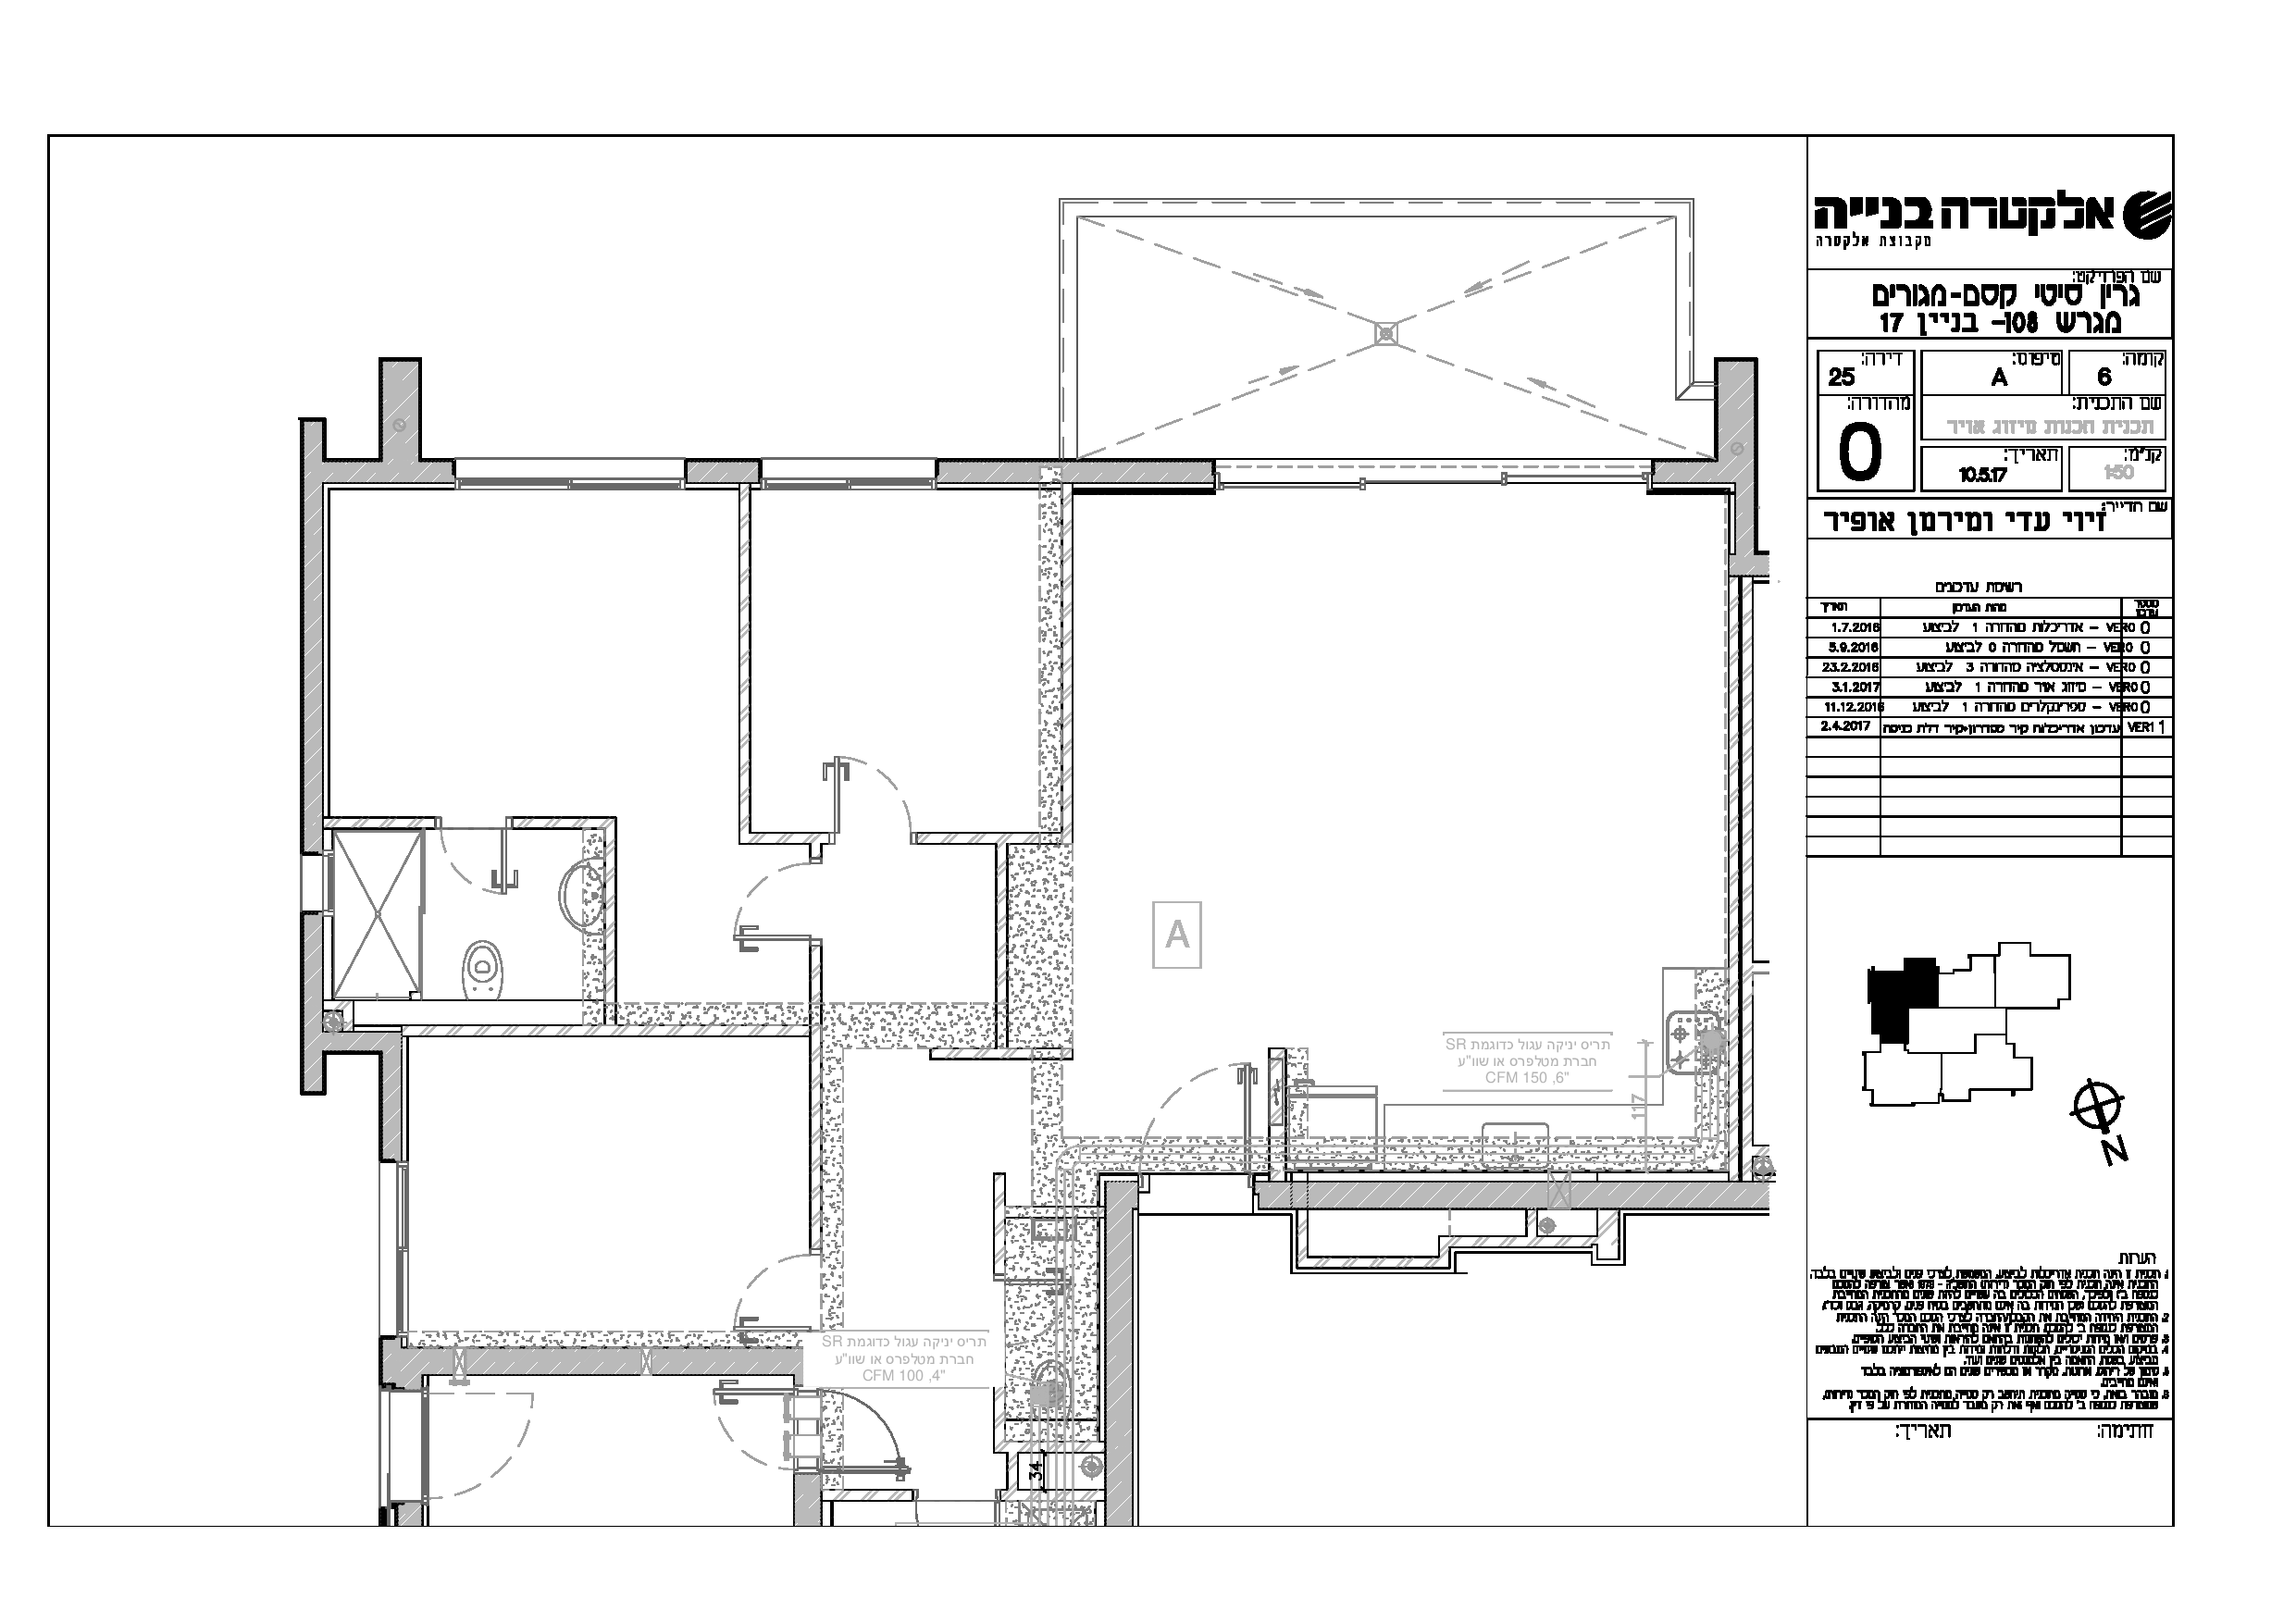door: (437, 1388, 553, 1490), (710, 857, 796, 970), (805, 741, 922, 819), (703, 1375, 776, 1474), (852, 1391, 924, 1482)
wall: (1110, 1194, 1133, 1512), (306, 423, 318, 836), (1314, 1187, 1539, 1203), (481, 1351, 639, 1370), (1583, 1186, 1739, 1203), (388, 367, 413, 476), (1725, 372, 1748, 478), (313, 464, 444, 478)
window: (353, 1159, 425, 1342), (453, 448, 687, 495), (759, 444, 938, 495)
